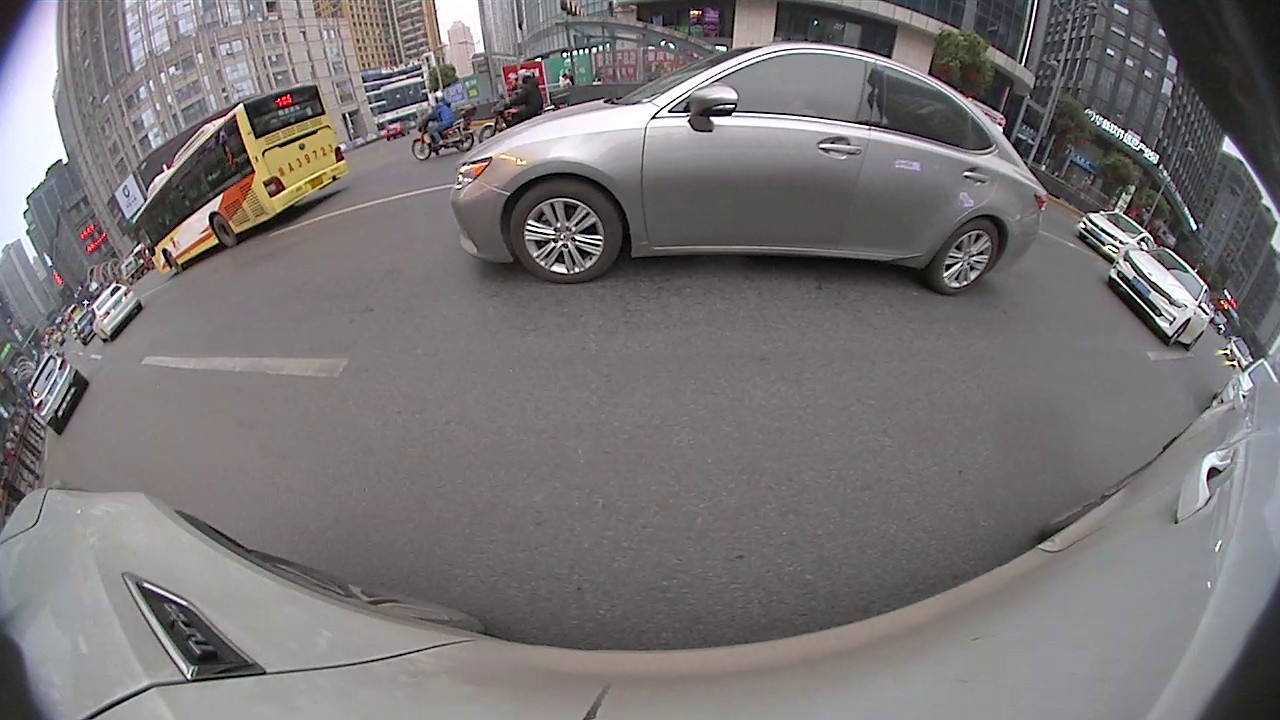bus: (129, 77, 346, 286)
car: (449, 44, 1052, 299), (1107, 247, 1214, 344), (26, 349, 89, 437), (1072, 209, 1154, 270), (87, 280, 142, 342)
front: (508, 179, 628, 285), (410, 137, 432, 161), (163, 248, 184, 273)
rear: (925, 218, 1003, 297), (211, 213, 241, 251), (455, 133, 476, 154)
rider: (410, 87, 481, 164)
